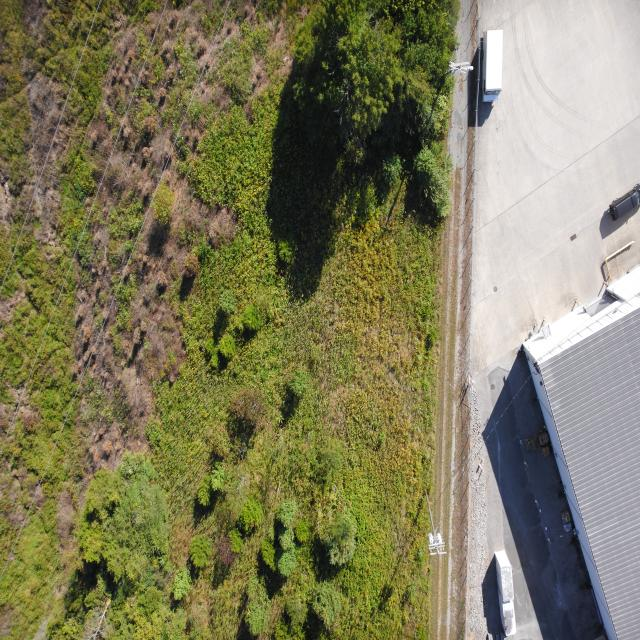Area of Interest: (325, 0, 452, 220)
